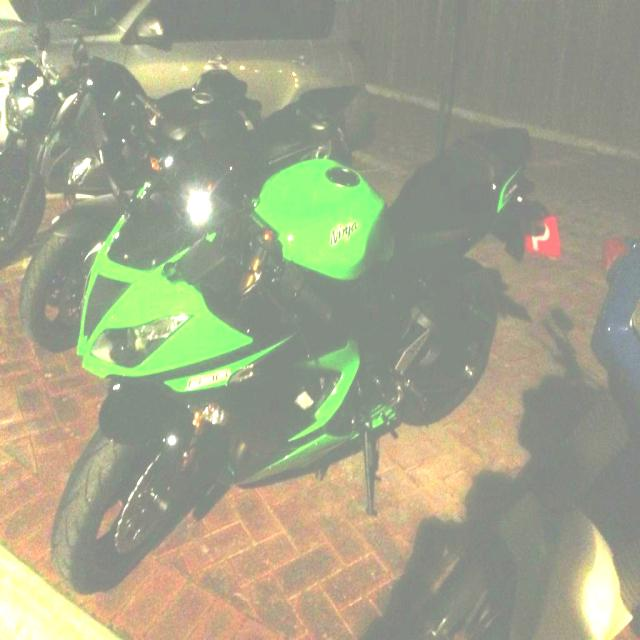Motorbike: (54, 125, 524, 605)
